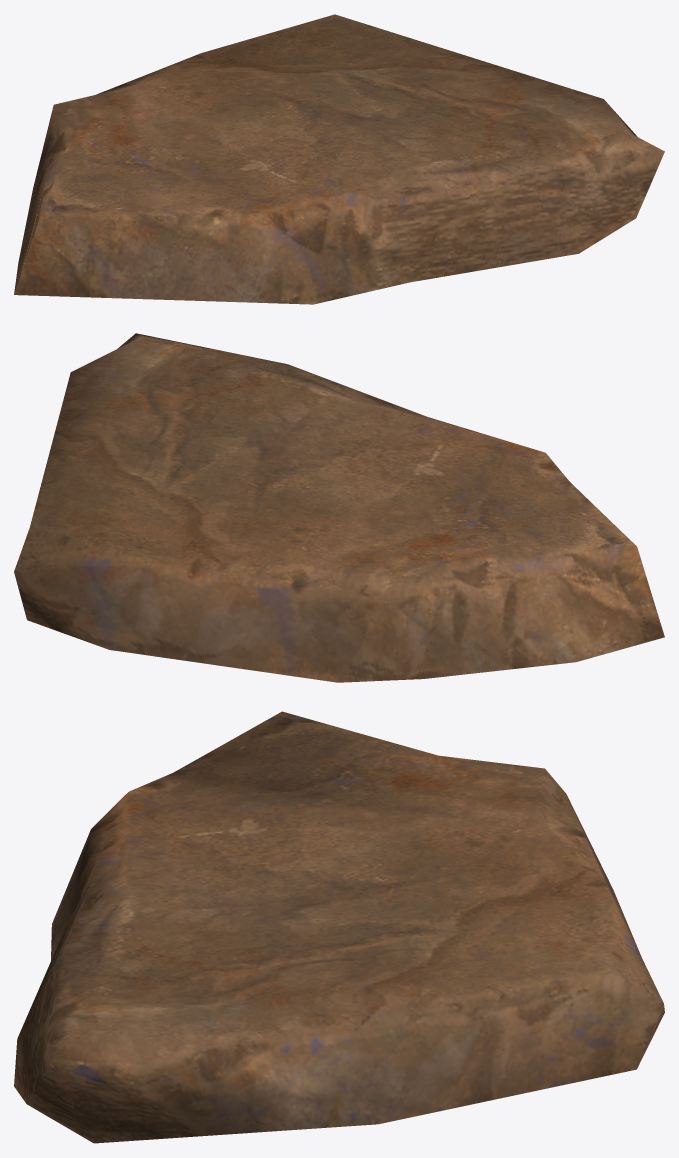
File: Rock_Shales_08_L1.fbx
3 views of the same model, one above another, from view 1: azimuth 30°, elevation 25°; view 2: azimuth 150°, elevation 25°; view 3: azimuth 270°, elevation 25° (orthographic). The views are drawn at different scales.
Visible parts, largest first — view 1: polySurface236; view 2: polySurface236; view 3: polySurface236.
Part boxes in pixels (left/top/right/bottom): polySurface236: left=14, top=14, right=664, bottom=304; polySurface236: left=14, top=333, right=664, bottom=682; polySurface236: left=14, top=711, right=664, bottom=1143.
Bounding box in the file's own units: 98.2 × 14.73 × 71.84.
